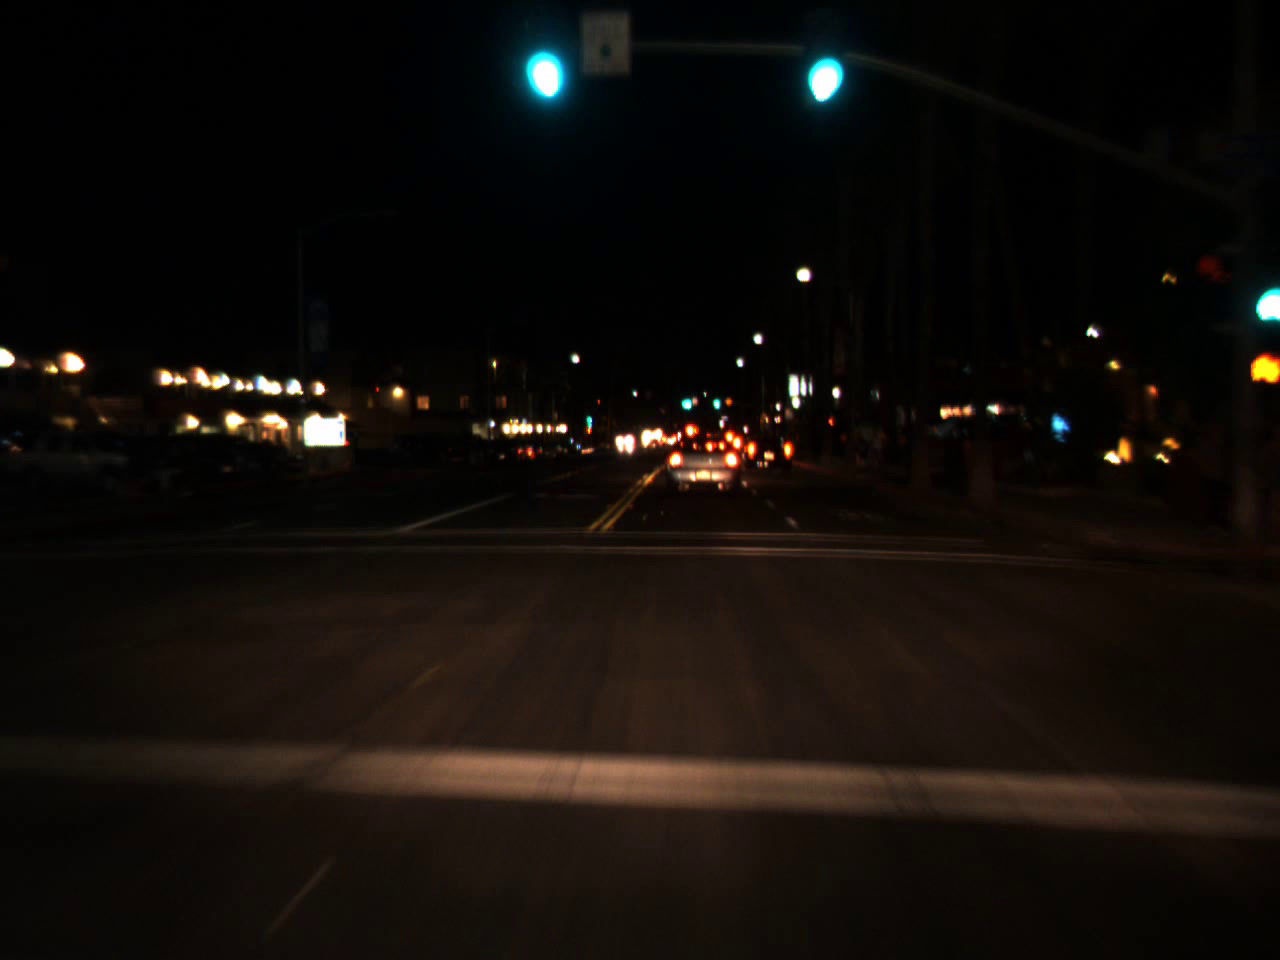go: (799, 26, 842, 110), (523, 18, 562, 105), (1247, 263, 1280, 329), (677, 391, 693, 409), (585, 403, 592, 430), (711, 390, 720, 411)
